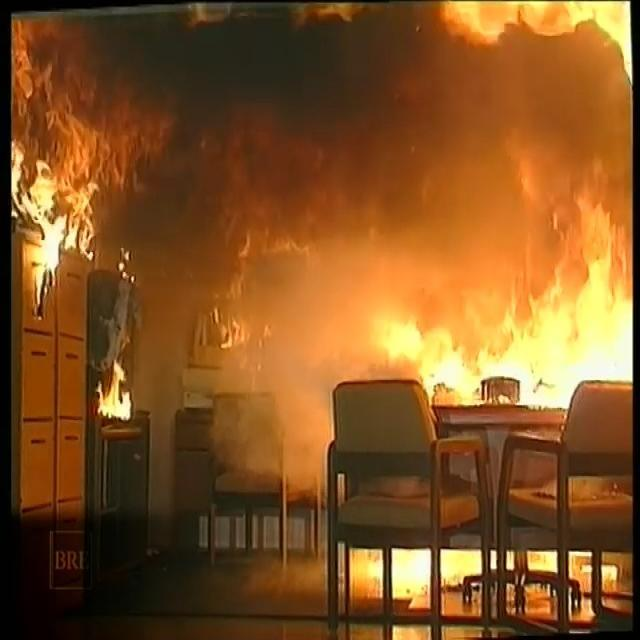Fire: (392, 230, 624, 392), (8, 73, 106, 315), (102, 348, 140, 427)
